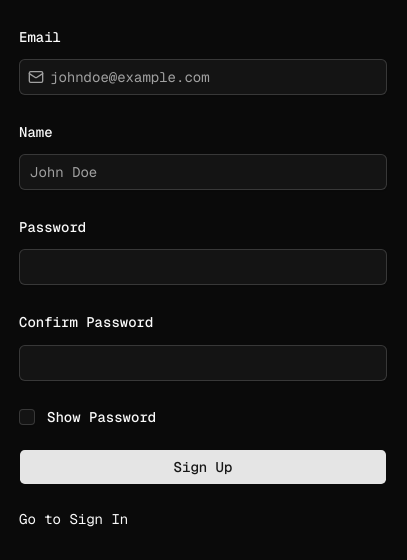
Test: SignUpForm › rejects an empty name
This screenshot has width=407, height=560.
In the field labelled "Email": [215, 77] box [44,59,386,95], type "ada@example.com"
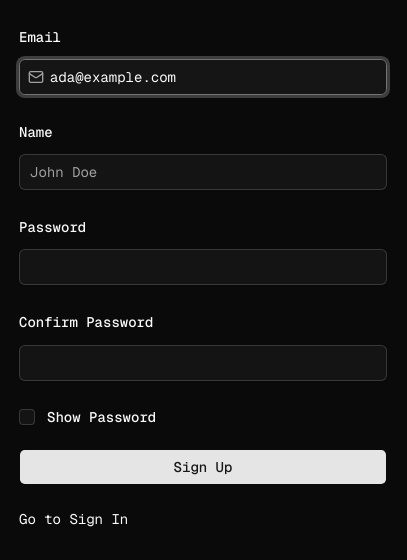
In the password field labelled "Password": [203, 267] box [20,249,386,285], type "secret123"
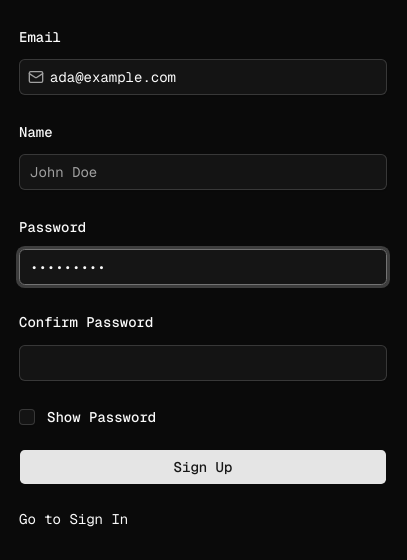
In the password field labelled "Confirm Password": [203, 362] box [20,344,386,380], type "secret123"
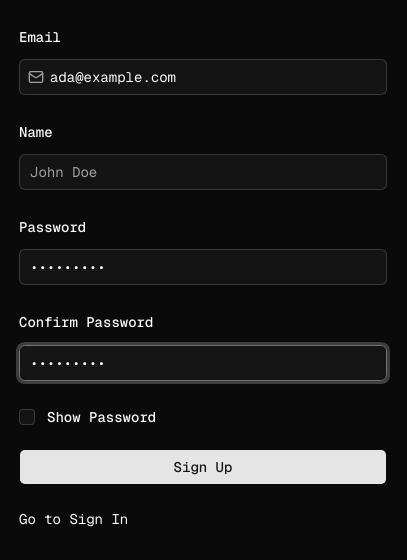
Click the button "Sign Up": [203, 466] box [19,448,387,484]
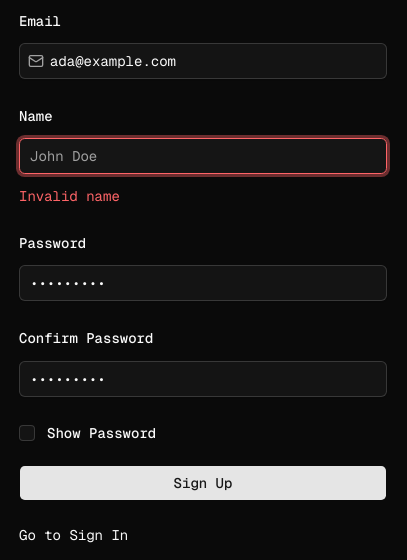
Expected: the text "Invalid name" is shown, [19,187,120,205]
